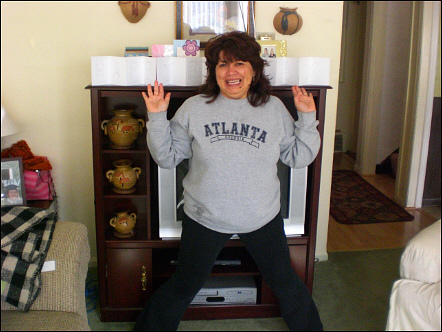person: (136, 32, 325, 332)
